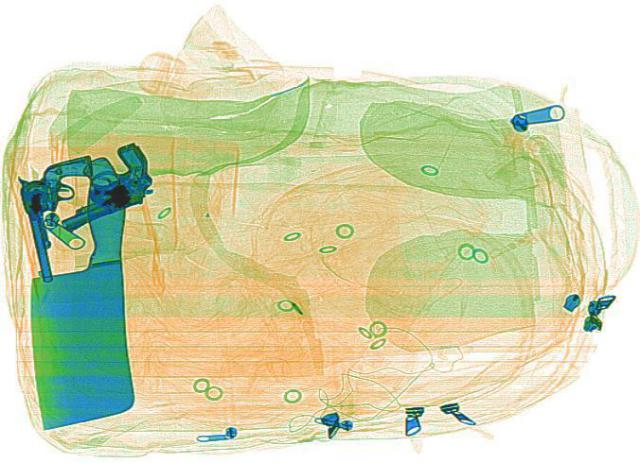Gun: (24, 139, 178, 231), (10, 153, 116, 282)
Knife: (17, 167, 138, 428)
